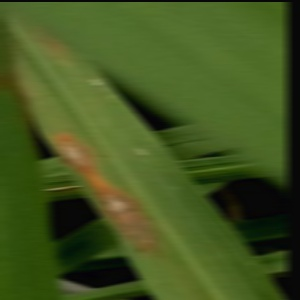Brown_Spot: (84, 179, 168, 253), (49, 119, 97, 174)
